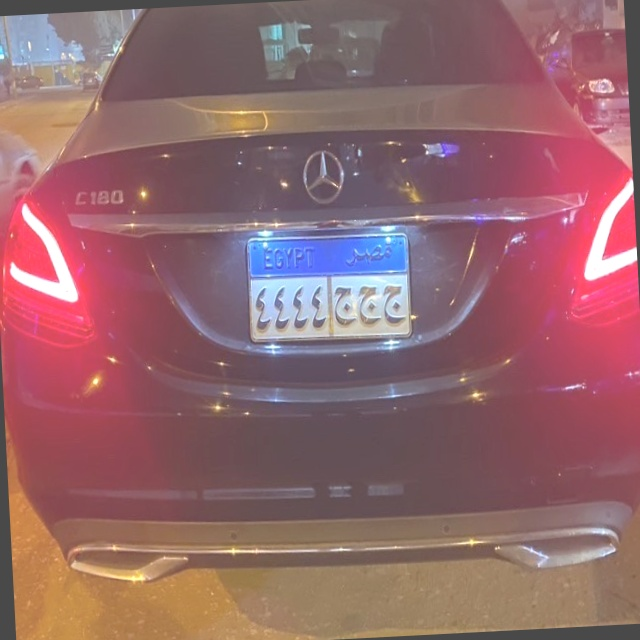License Plate: (245, 231, 415, 346)
